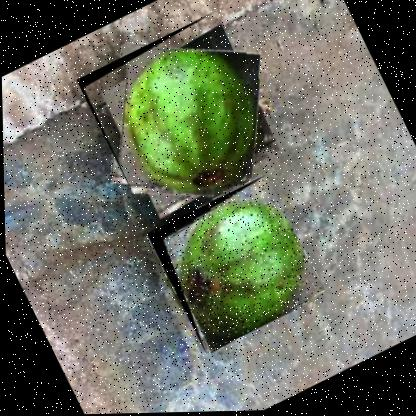guava: (73, 5, 297, 229), (144, 173, 325, 355)
